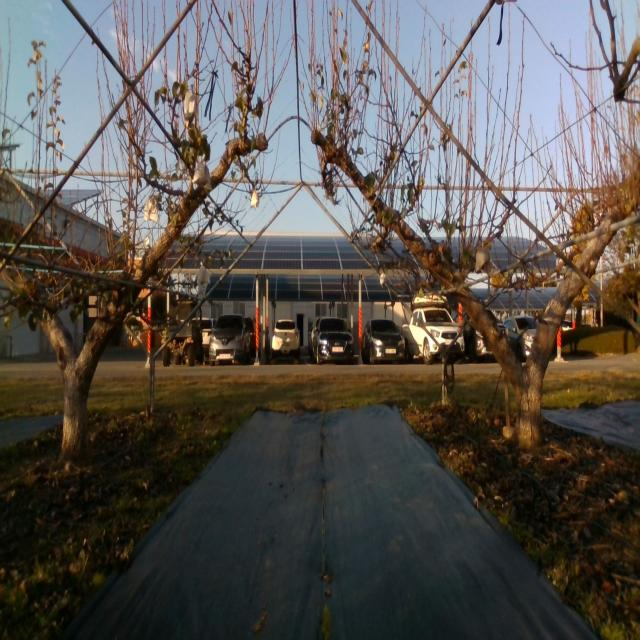pearbags: (191, 160, 212, 190), (183, 89, 197, 121), (144, 196, 158, 221), (476, 249, 490, 273), (197, 266, 211, 284)
